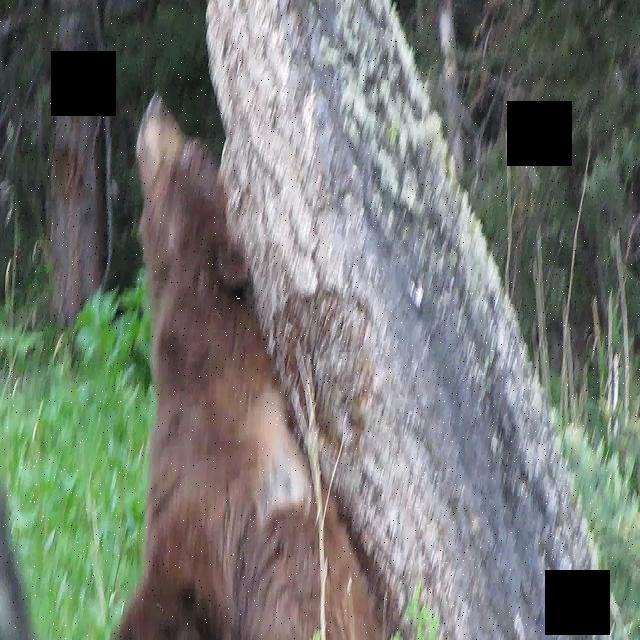Bear: (100, 83, 412, 640)
